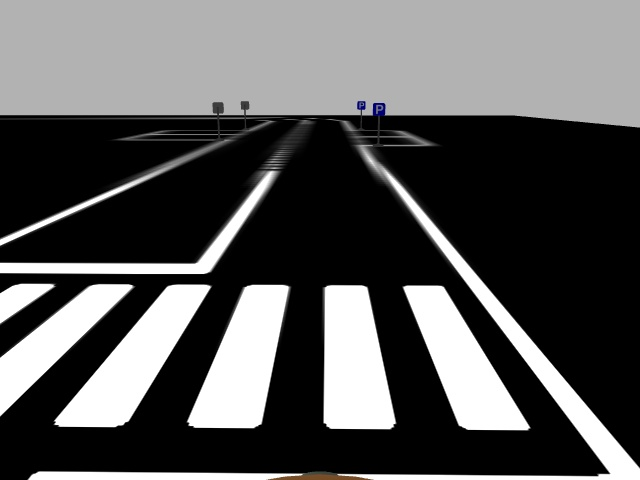parking: (371, 101, 386, 116), (356, 99, 366, 110)
